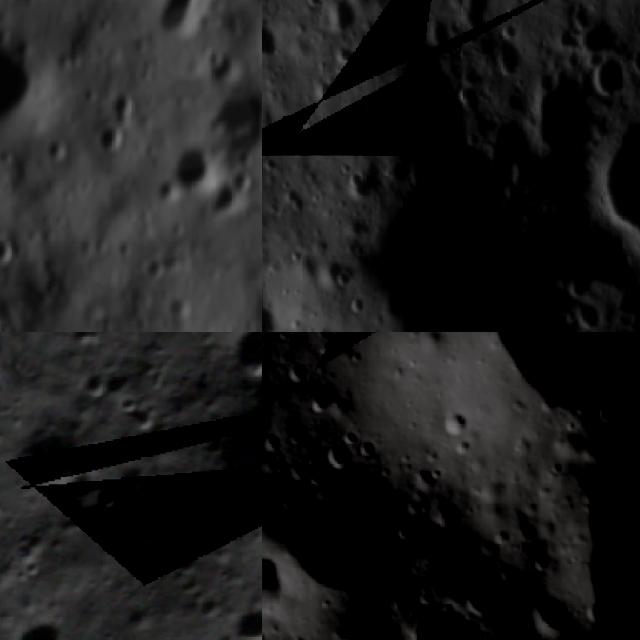crater: (588, 118, 640, 252), (262, 534, 322, 634), (396, 594, 502, 640), (150, 0, 227, 43), (69, 363, 121, 411), (221, 332, 262, 389), (172, 144, 229, 182), (92, 476, 138, 523), (322, 432, 366, 481), (217, 593, 262, 640), (5, 615, 84, 640), (358, 82, 401, 123), (588, 48, 625, 92), (324, 0, 361, 39), (322, 116, 356, 156), (324, 254, 358, 294), (117, 390, 151, 426), (262, 274, 282, 332), (344, 162, 373, 201), (307, 72, 341, 105), (421, 18, 456, 50), (570, 307, 612, 332), (496, 38, 521, 79), (262, 332, 280, 385), (103, 118, 128, 154), (118, 85, 145, 116), (560, 275, 597, 296), (262, 23, 281, 58), (235, 165, 260, 190), (453, 81, 477, 107), (154, 255, 174, 283), (461, 128, 482, 152), (0, 237, 12, 263)
